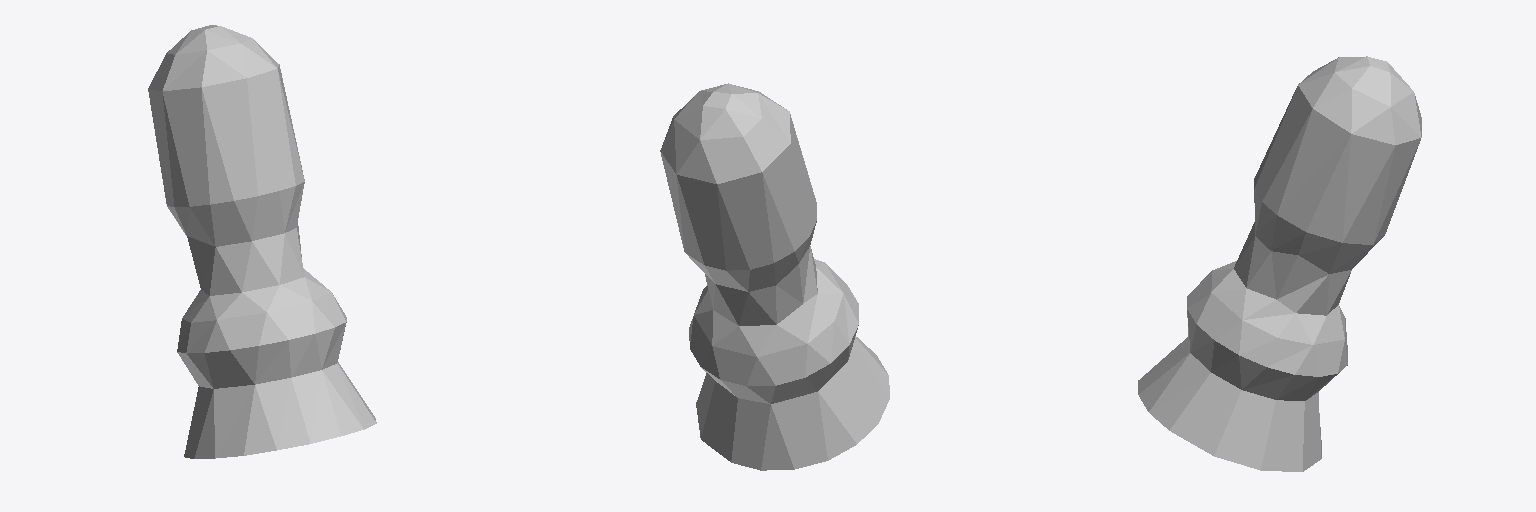
File: light_12.obj
The picture shows the model from 3 angles: view 1: azimuth 30°, elevation 25°; view 2: azimuth 150°, elevation 25°; view 3: azimuth 270°, elevation 25°; orthographic projection.
Visible parts, largest first — view 1: Cylinder001.011_Untitled.020; view 2: Cylinder001.011_Untitled.020; view 3: Cylinder001.011_Untitled.020.
Boxes of the visible parts, box(x1,y1,x2,y2) form: Cylinder001.011_Untitled.020: box(148, 25, 376, 458); Cylinder001.011_Untitled.020: box(660, 83, 889, 470); Cylinder001.011_Untitled.020: box(1138, 56, 1421, 471).
Size of the model in its own units: 0.2348 by 0.5093 by 0.334.